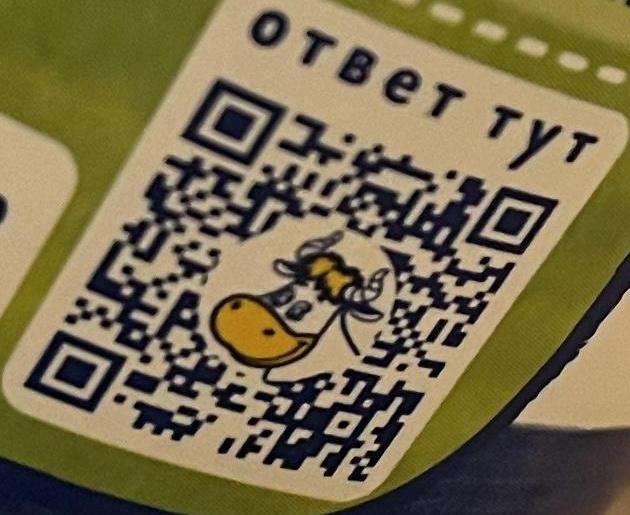qrcode: (24, 76, 560, 484)
